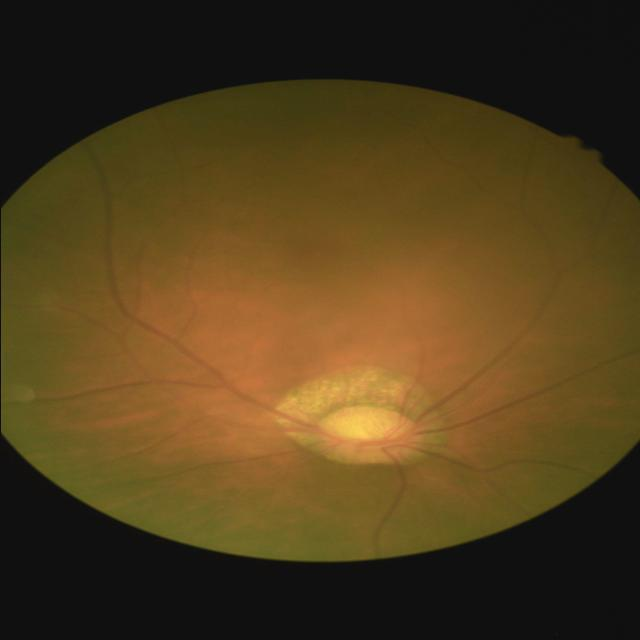cup: (328, 415, 402, 449)
disk: (314, 404, 426, 466)
